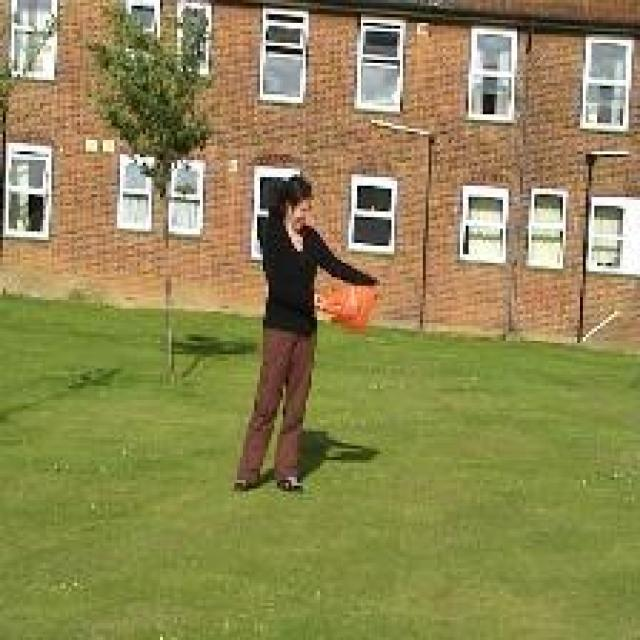other: (311, 278, 378, 331)
